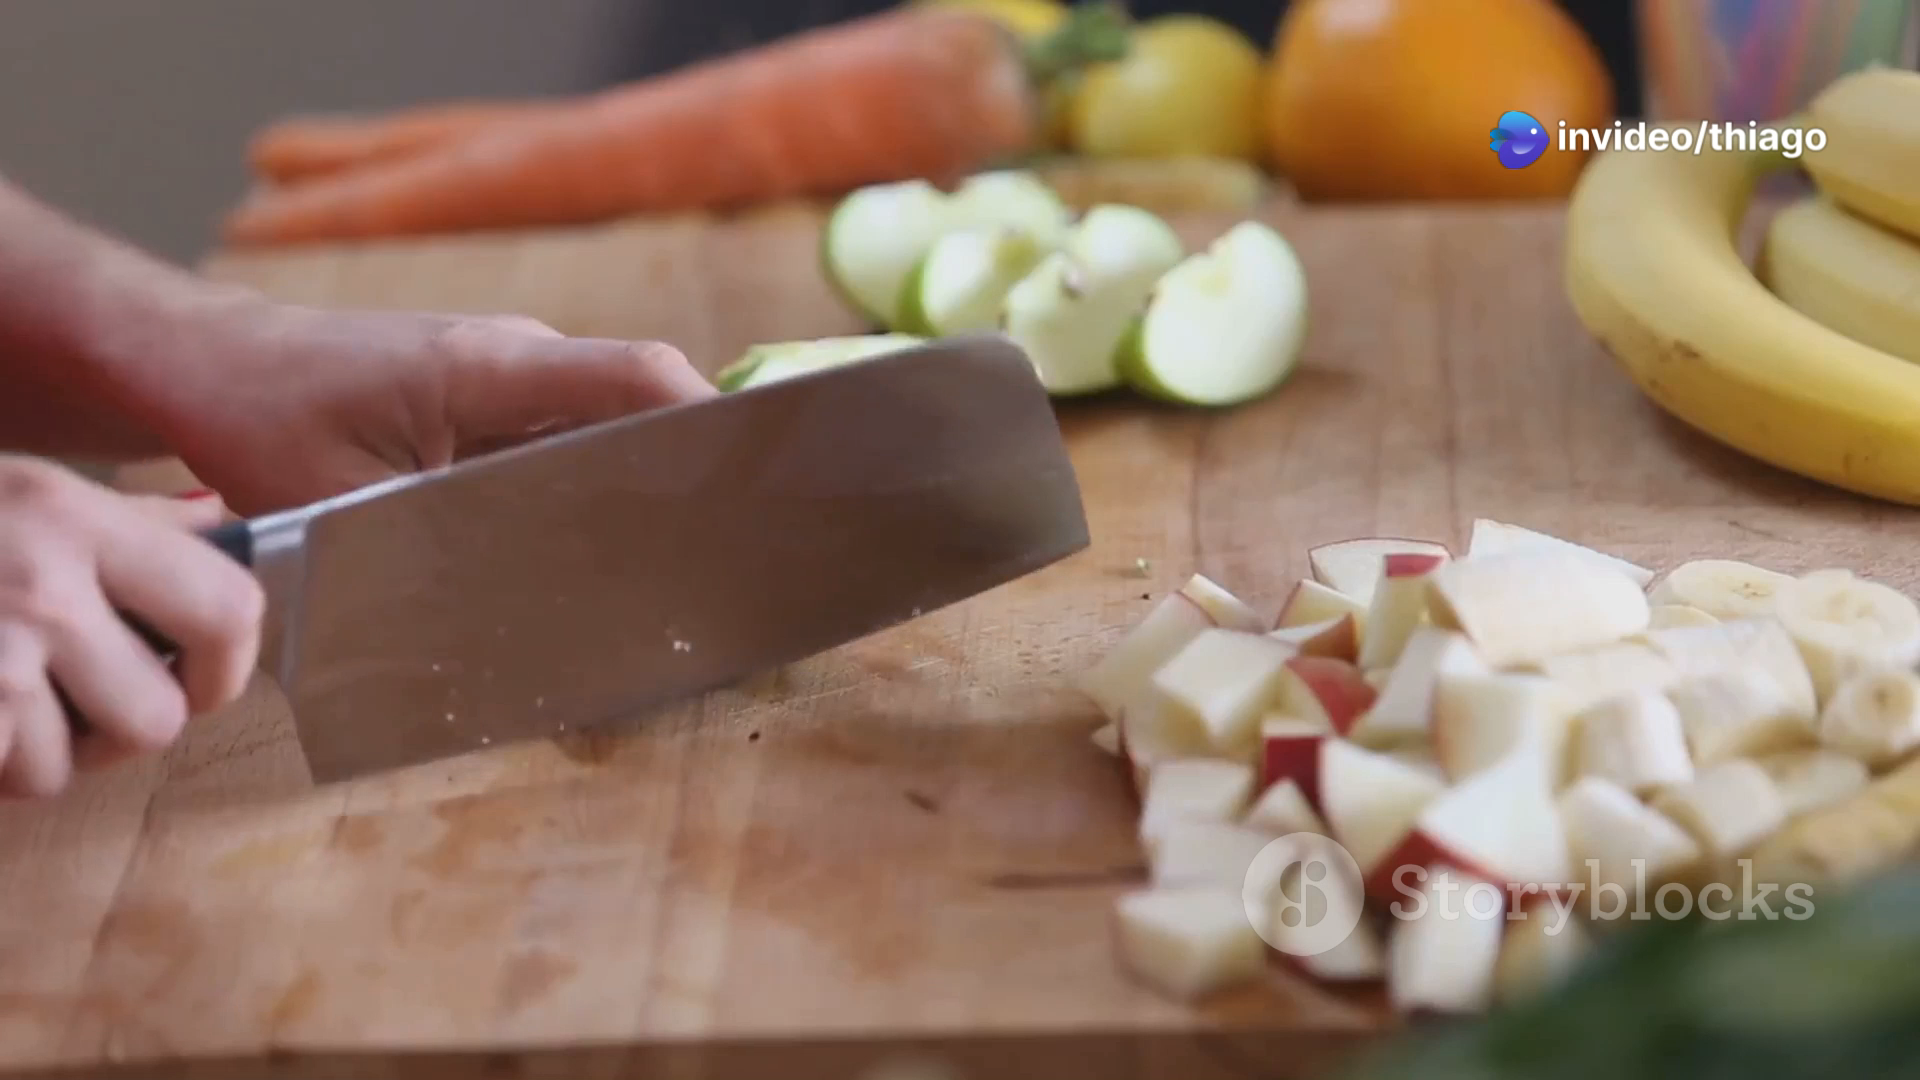cortante: (258, 335, 1092, 783)
